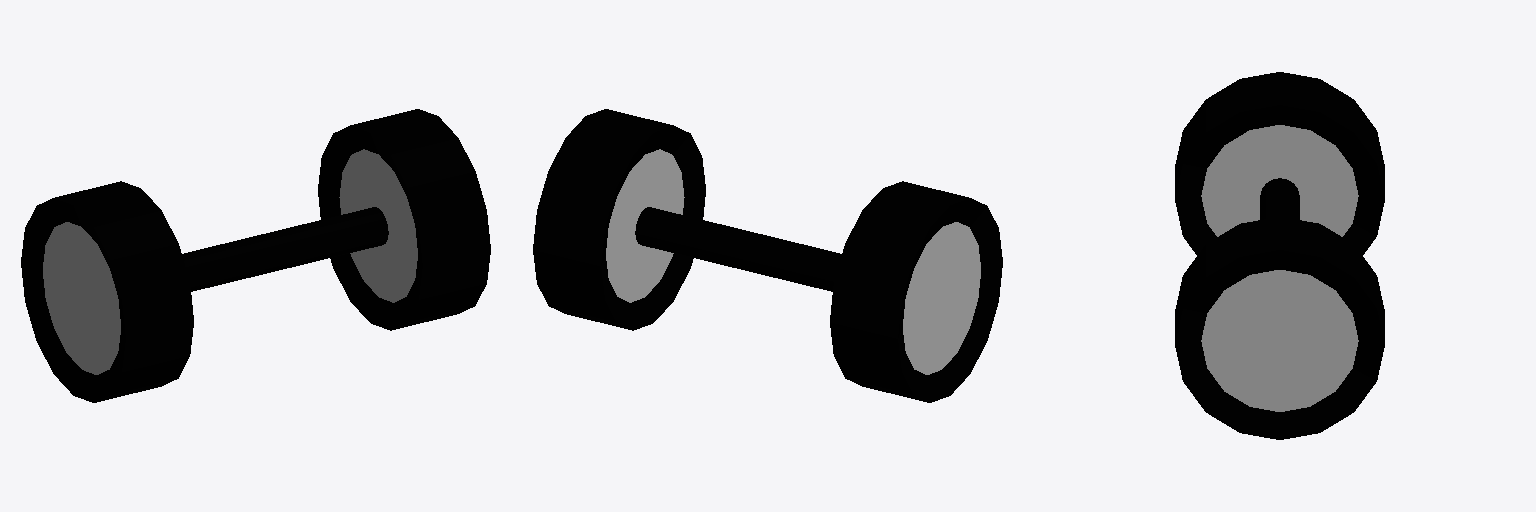
File: singleAxel.obj
3 views of the same model, side by side, from view 1: azimuth 30°, elevation 25°; view 2: azimuth 150°, elevation 25°; view 3: azimuth 270°, elevation 25° (orthographic).
Parts seen in each view (by area): view 1: Axel; view 2: Axel; view 3: Axel.
Boxes of the visible parts, box(x1,y1,x2,y2) form: Axel: box(21, 109, 490, 402); Axel: box(533, 109, 1002, 402); Axel: box(1175, 72, 1384, 439).
Bounding box in the file's own units: 1 × 0.5 × 0.5.